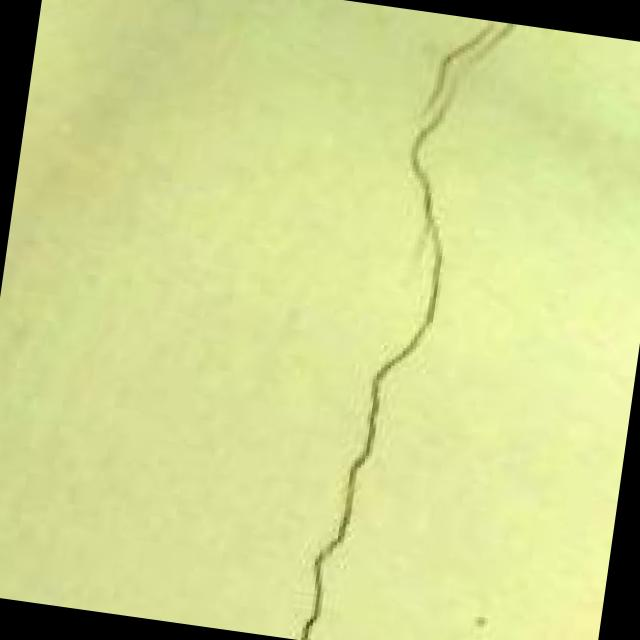crack: (285, 4, 519, 640)
